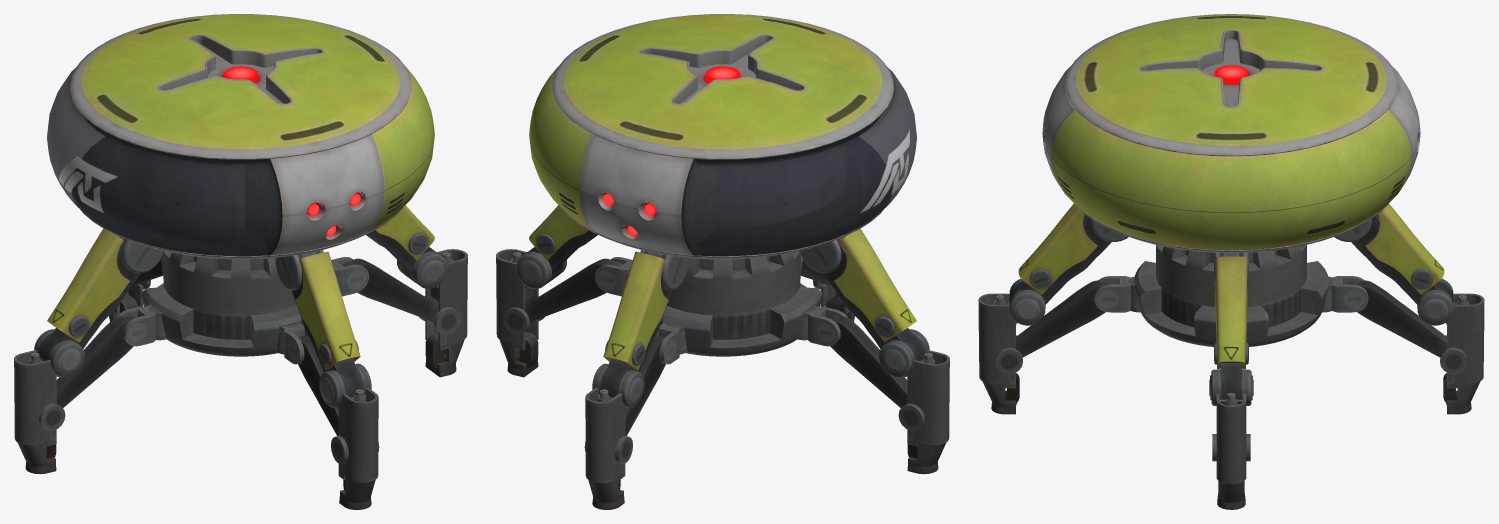
File: Unv_C_Companion005.gltf
3 renders of one model, left to right at view 1: azimuth 30°, elevation 25°; view 2: azimuth 150°, elevation 25°; view 3: azimuth 270°, elevation 25°, orthographic. The views are drawn at different scales.
Visible parts, largest first — view 1: b_low, a1_low, c_low, a2_low, a4_low, a3_low, a5_low, a6_low, a6_low1, a4_low1, a5_low1, a7_low (+1 smaller); view 2: b_low, a1_low, c_low, a2_low, a4_low, a3_low, a5_low, a6_low, a6_low1, a4_low1, a5_low1, a7_low (+1 smaller); view 3: b_low, a1_low, a4_low1, a2_low, a5_low1, a6_low1, a6_low, a7_low1, a5_low, a4_low, a7_low.
Part boxes in pixels (<box>): b_low: <box>47,14,434,370</box>; a1_low: <box>70,14,411,339</box>; c_low: <box>47,66,360,256</box>; a2_low: <box>141,134,384,356</box>; a4_low: <box>38,230,460,458</box>; a3_low: <box>73,116,267,254</box>; a5_low: <box>28,233,453,377</box>; a6_low: <box>14,249,467,474</box>; a6_low1: <box>114,285,378,509</box>; a4_low1: <box>120,250,379,490</box>; a5_low1: <box>123,250,371,407</box>; a7_low: <box>17,252,464,466</box>; b_low: <box>529,14,916,370</box>; a1_low: <box>552,14,893,339</box>; c_low: <box>603,66,916,256</box>; a2_low: <box>579,134,822,356</box>; a4_low: <box>503,230,925,458</box>; a3_low: <box>696,116,890,254</box>; a5_low: <box>510,233,935,377</box>; a6_low: <box>496,249,949,474</box>; a6_low1: <box>585,285,849,509</box>; a4_low1: <box>584,250,843,490</box>; a5_low1: <box>592,250,840,407</box>; a7_low: <box>499,252,946,466</box>; b_low: <box>1018,14,1444,369</box>; a1_low: <box>1064,14,1398,327</box>; a4_low1: <box>995,214,1467,405</box>; a2_low: <box>1042,65,1420,346</box>; a5_low1: <box>994,219,1468,325</box>; a6_low1: <box>978,293,1484,414</box>; a6_low: <box>1216,393,1246,509</box>; a7_low1: <box>982,295,1480,407</box>; a5_low: <box>1209,252,1253,405</box>; a4_low: <box>1212,253,1250,461</box>; a7_low: <box>1218,393,1244,502</box>.
Bounding box in the file's own units: 25.01 × 18.81 × 25.01.
Materials: 3 (3 with a texture image).
